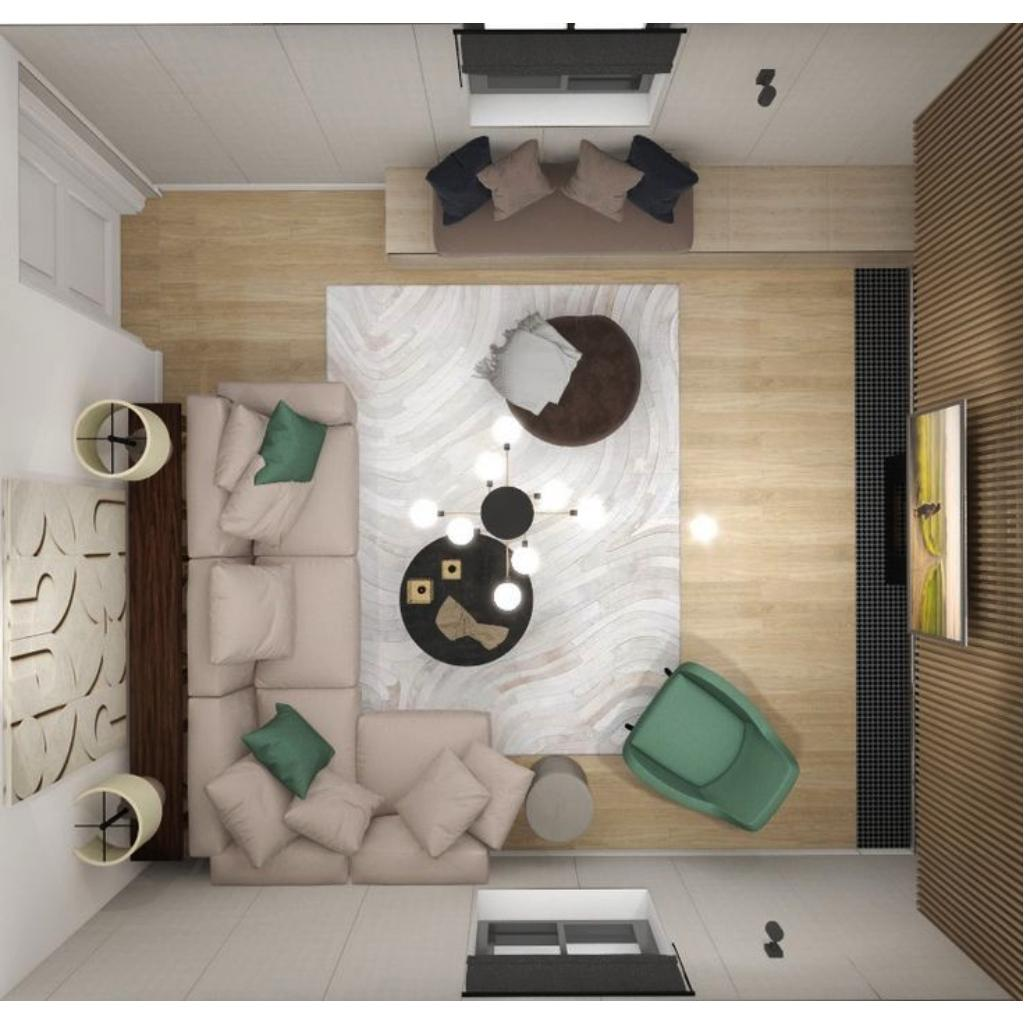TV stand: (857, 269, 959, 849)
chair: (624, 664, 800, 836), (357, 714, 497, 882)
coffee table: (398, 532, 528, 668)
ottoman: (504, 313, 642, 447)
rug: (326, 287, 680, 753)
side table: (126, 399, 180, 867), (525, 766, 597, 842)
sideboard: (386, 154, 950, 254)
sofa: (186, 384, 352, 882)
window: (462, 26, 682, 52), (464, 972, 692, 996)
